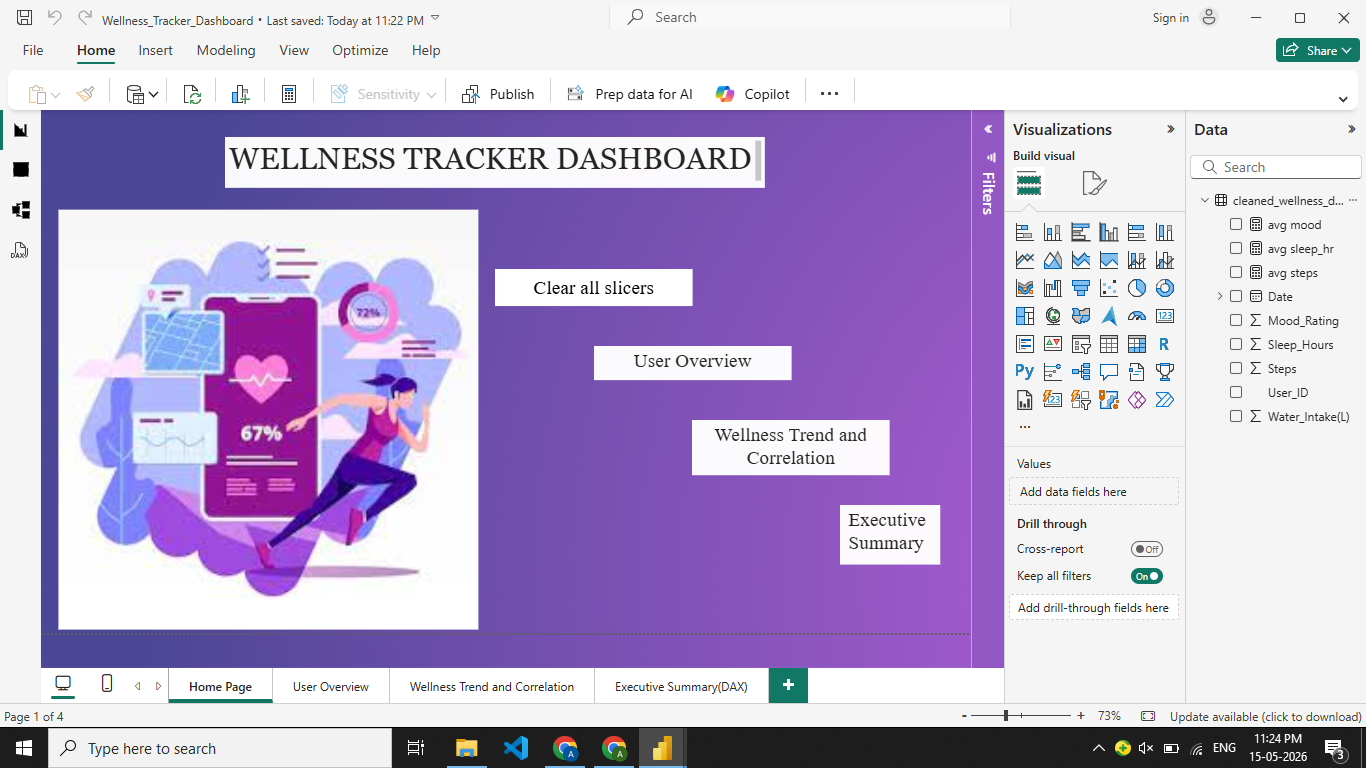

The dashboard page shown, as its layout file describes it:
{"tool":"powerbi","page":{"name":"Home Page","canvas":[1280,720],"ordinal":0},"visuals":[{"type":"image","box":[0,131.7,625,588.3],"z":0},{"type":"textbox","box":[253.3,36.7,743.3,70],"z":1000},{"type":"actionButton","box":[624.5,218.9,271.8,51.4],"z":2000},{"type":"textbox","box":[761.1,324.7,271.8,47],"z":3000},{"type":"textbox","box":[896.3,426.1,271.8,76.4],"z":4000},{"type":"textbox","box":[1099.1,543.7,138.1,82.3],"z":4001}]}

Visuals, with their boxes on the page's 1280x720 design canvas (x1, y1, x2, y2). These are canvas units, not pixel positions in the 1366x768 screenshot, which may show the page scaled, cropped or inside an application window:
image: (0, 132, 625, 720)
textbox: (253, 37, 997, 107)
actionButton: (624, 219, 896, 270)
textbox: (761, 325, 1033, 372)
textbox: (896, 426, 1168, 502)
textbox: (1099, 544, 1237, 626)
